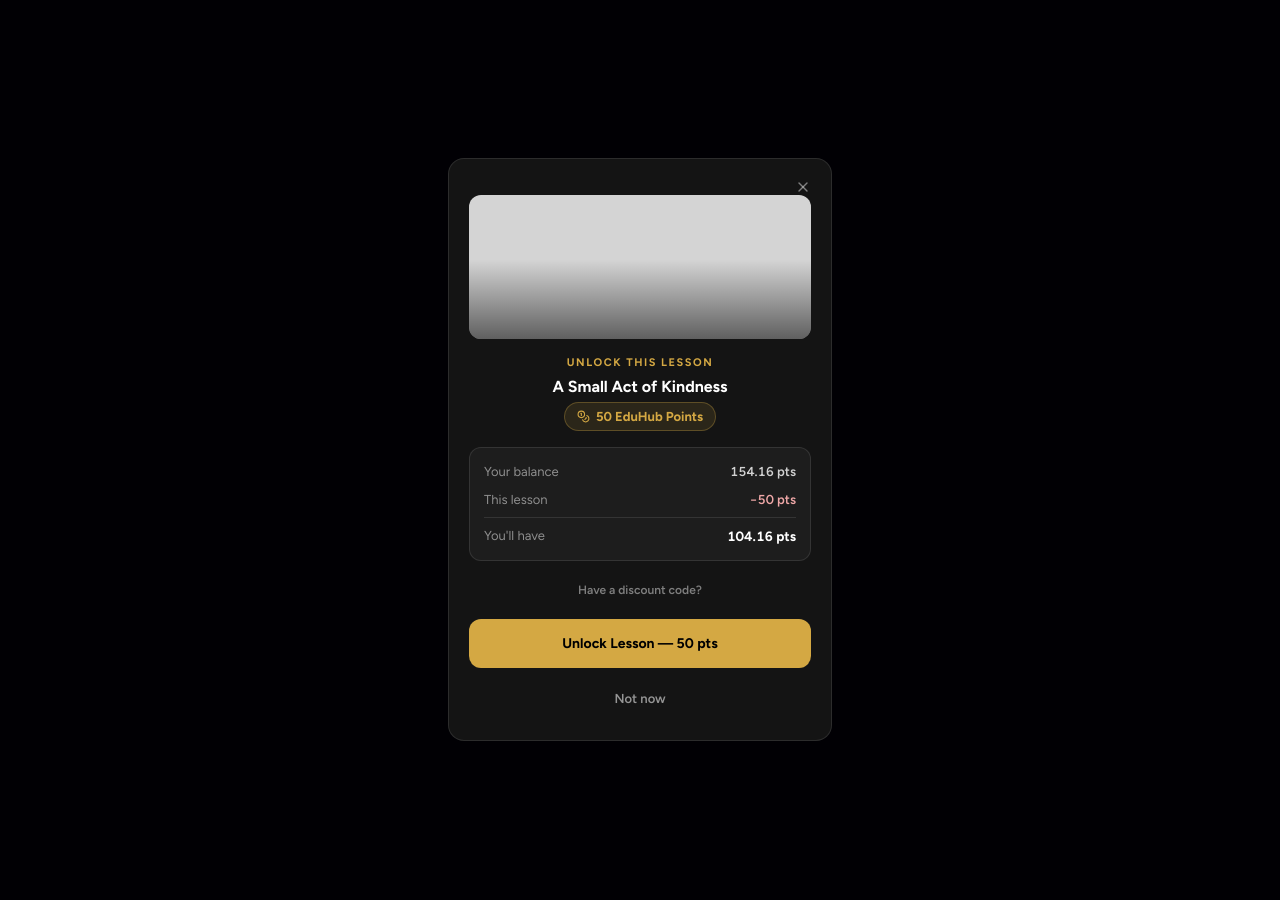
Test: successful purchase: backend-confirmed state drives success UI, new balance uses authoritative pointsAfter
This screenshot has width=1280, height=900.
Later steps or results of the test are not shown.
Click the button with test id "video-purchase-confirm-button". click: click(640, 644)
box: [469, 620, 811, 669]
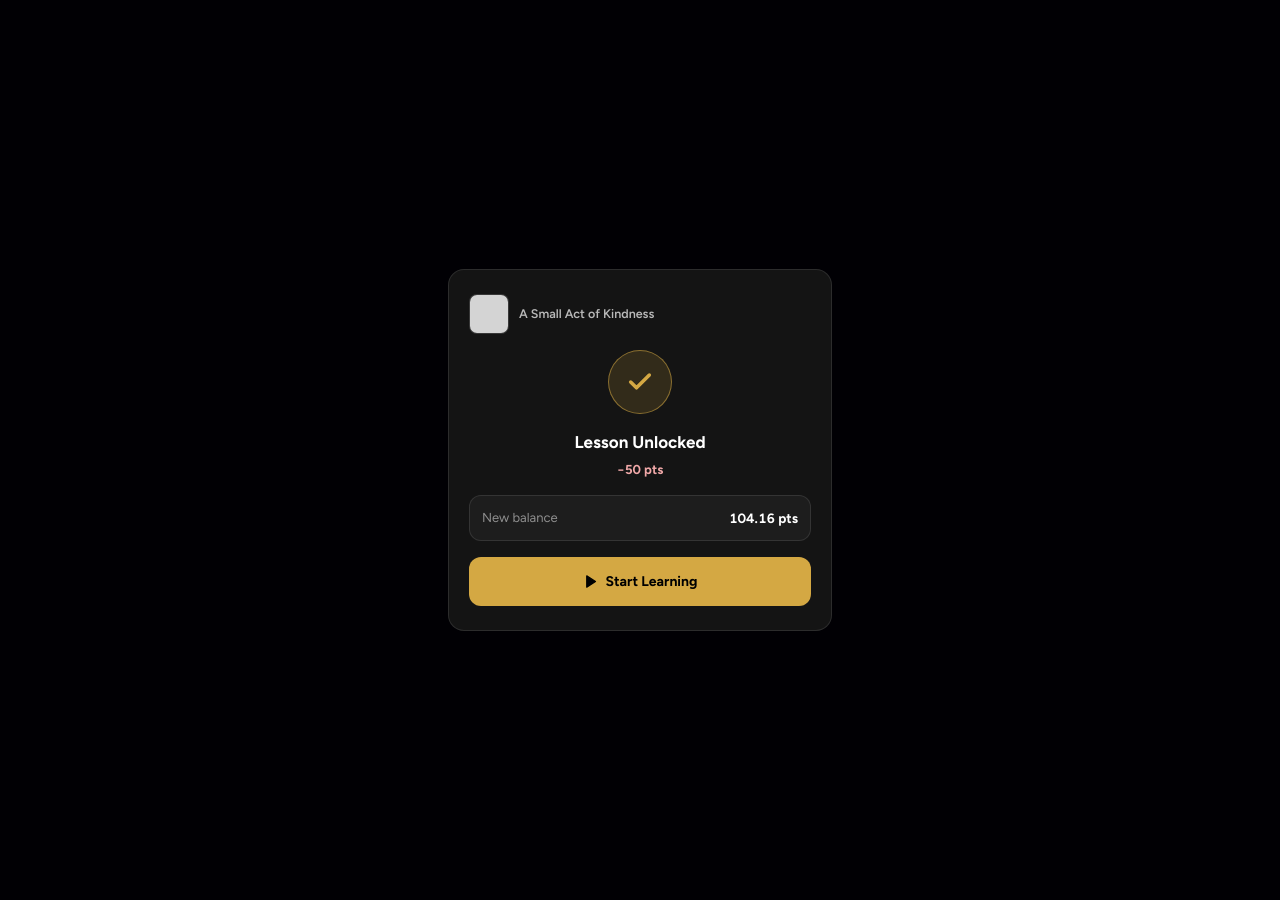
Expected: the text with test id "video-purchase-debit" reads "−50 pts", [617, 461, 663, 476]
Now the element with test id "video-purchase-success" is shown, box [469, 290, 811, 610]
